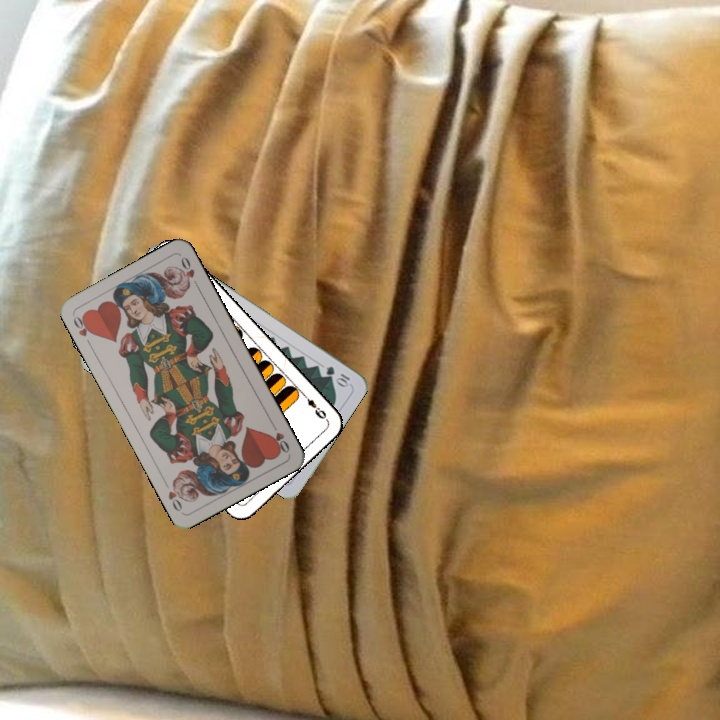E9: (299, 389, 330, 423)
G10: (322, 362, 354, 389)
HO: (69, 311, 97, 349), (267, 418, 292, 456)
